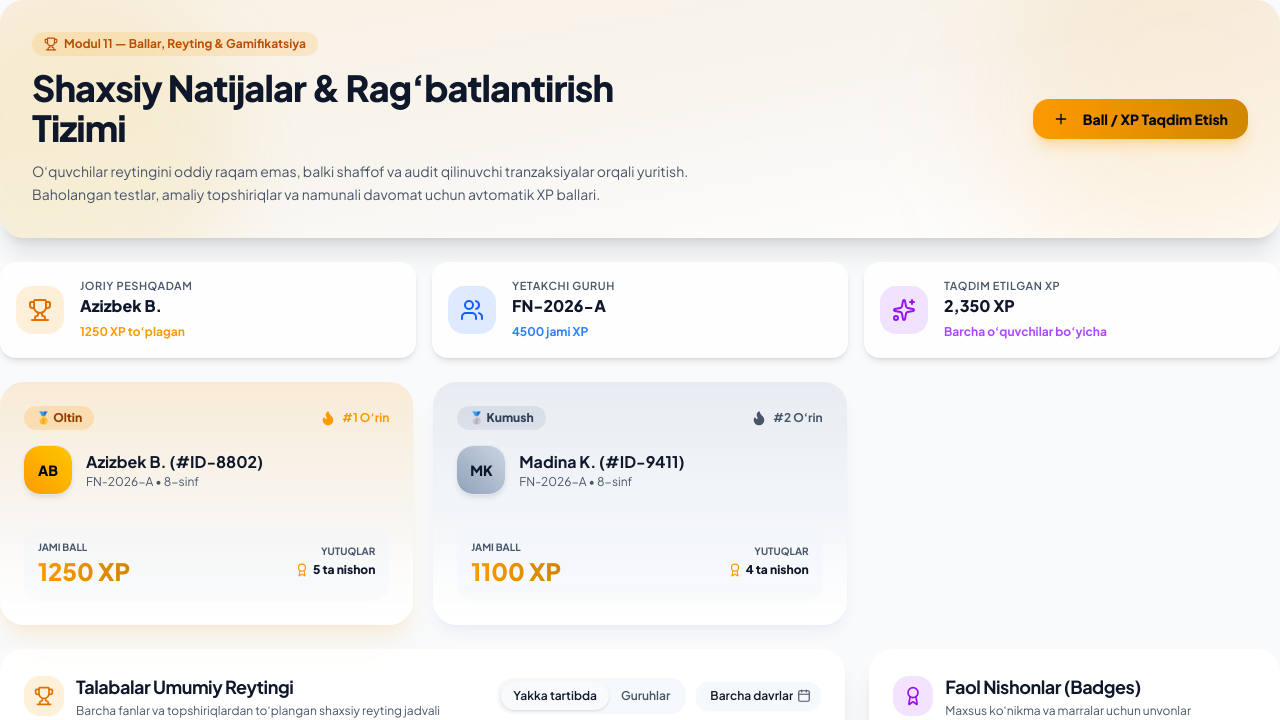
Test: Modules 08 - 11 Frontend Integration Tests › Module 11: GamificationDashboard › opens award points modal when mentor clicks "Ball / XP Taqdim Etish"
Click the button "Ball / XP Taqdim Etish" at (1140, 119), box [1033,99,1248,139]
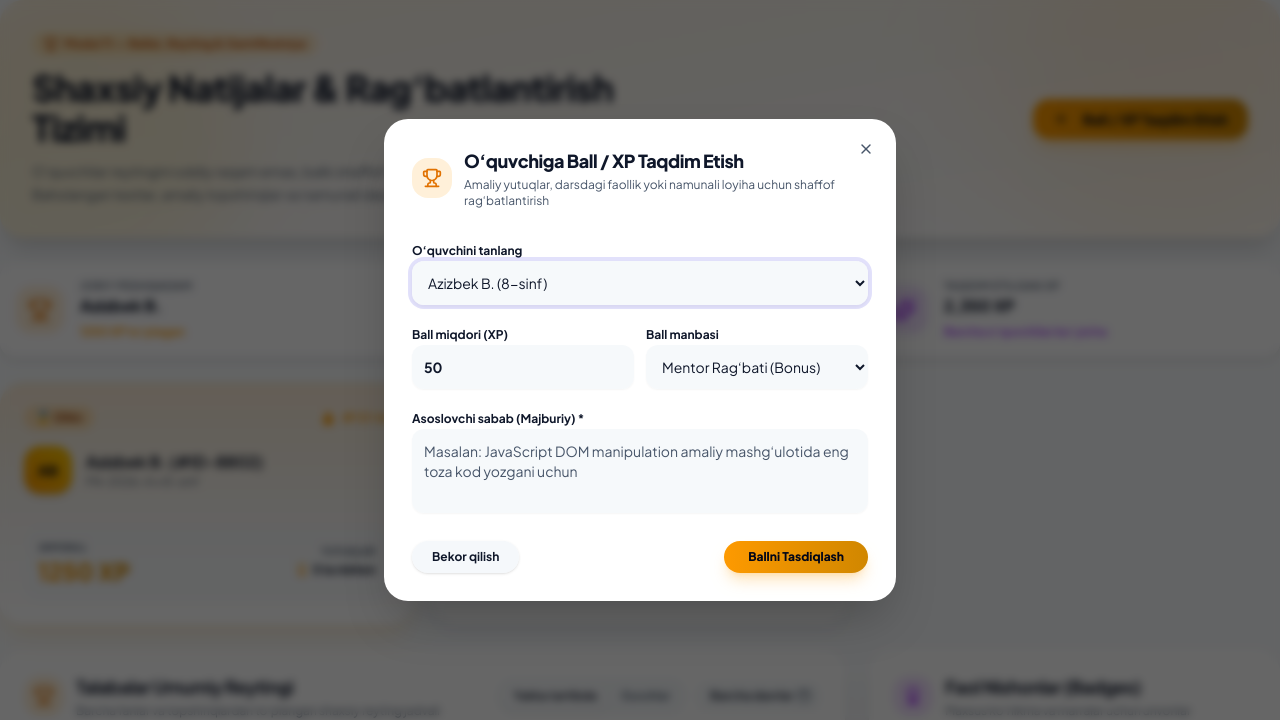
Result: the heading "O‘quvchiga Ball / XP Taqdim Etish" is shown at [464,149,744,172]
Result: the text "Ball miqdori (XP)" is shown at [412,327,508,342]
Result: the text "Asoslovchi sabab (Majburiy) *" is shown at [412,411,584,426]
